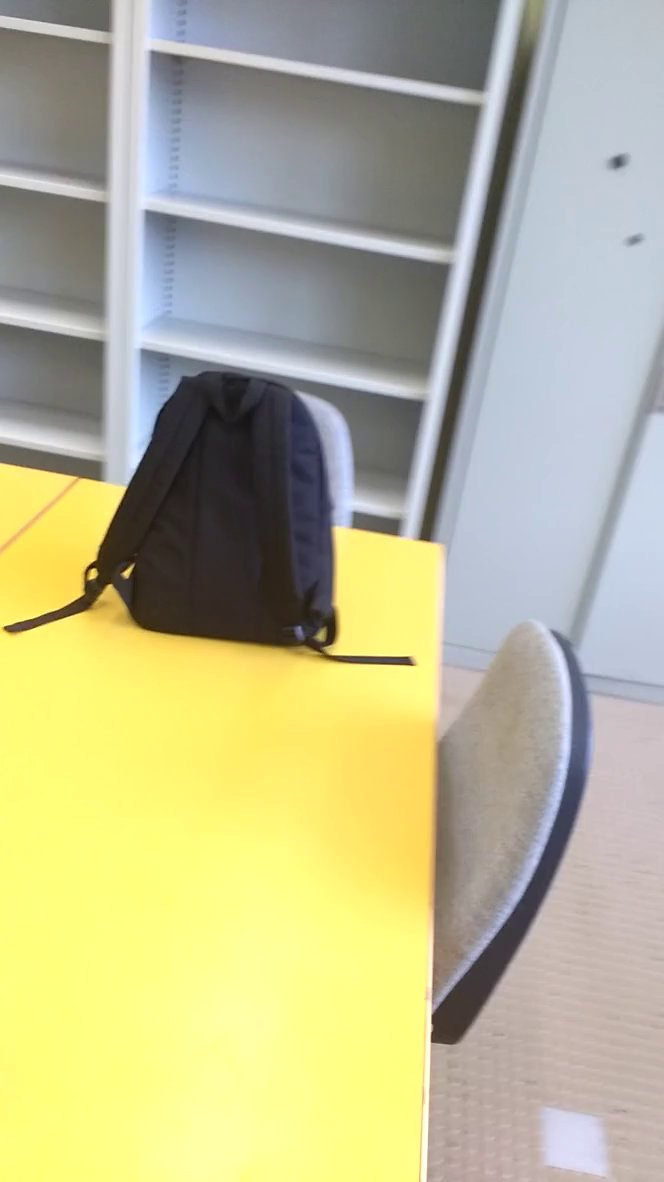bag: (9, 366, 419, 672)
chair: (427, 605, 610, 1078)
